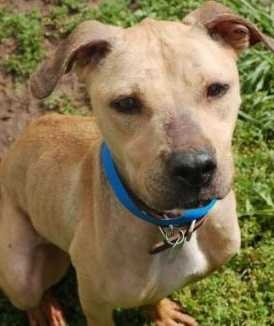Dog: (0, 14, 248, 312)
